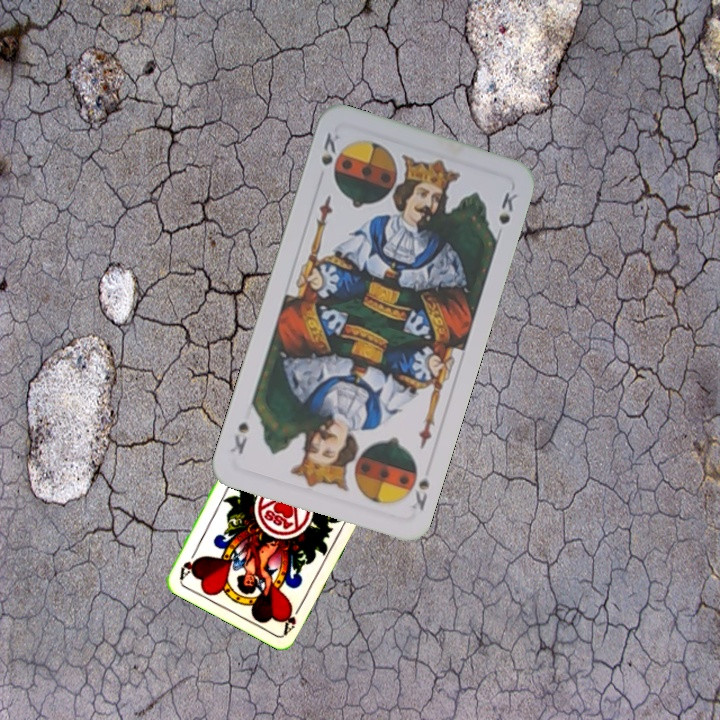HA: (279, 598, 306, 636)
SK: (317, 128, 344, 179), (407, 473, 433, 513)
